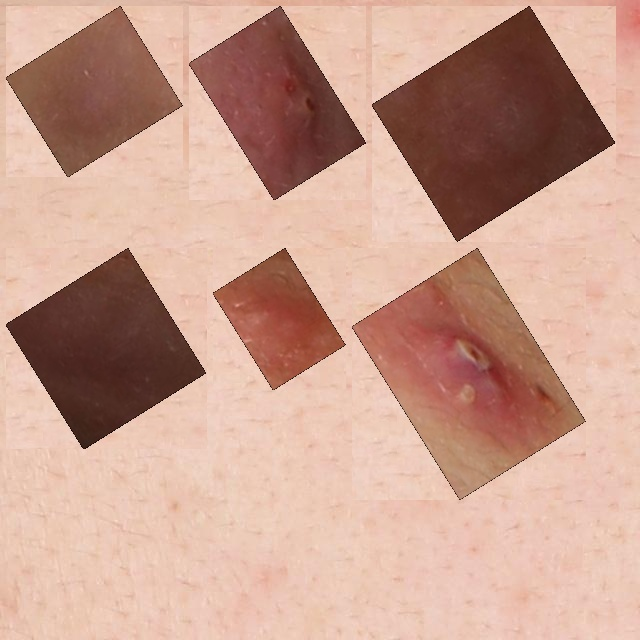nodule: (363, 259, 575, 488), (383, 17, 604, 230), (17, 259, 195, 438), (200, 17, 355, 189), (17, 17, 171, 166), (224, 259, 334, 379)
